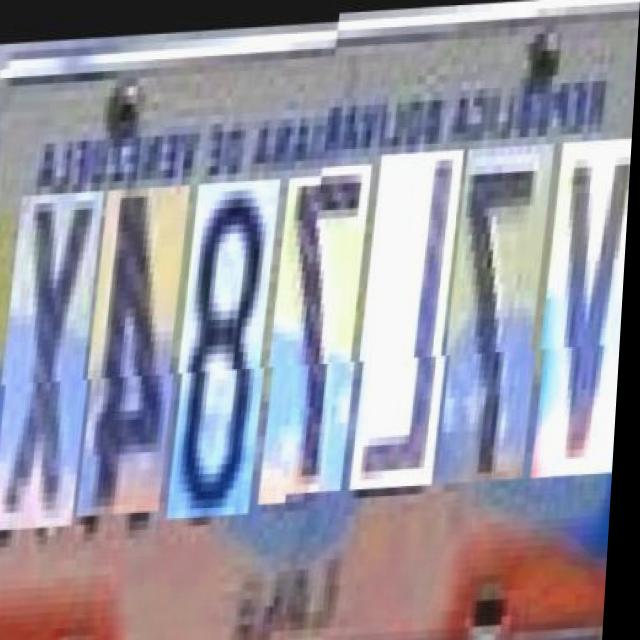4: (85, 178, 195, 508)
7: (442, 151, 557, 491), (265, 170, 376, 500)
8: (174, 174, 285, 512)
l: (356, 156, 467, 494)
v: (538, 146, 633, 484)
x: (0, 183, 108, 521)
